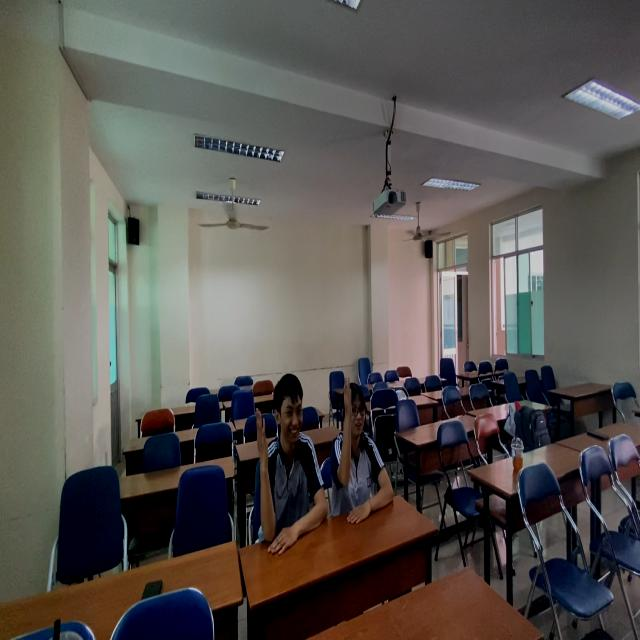raise_hand: (253, 371, 332, 557), (334, 372, 398, 531)
